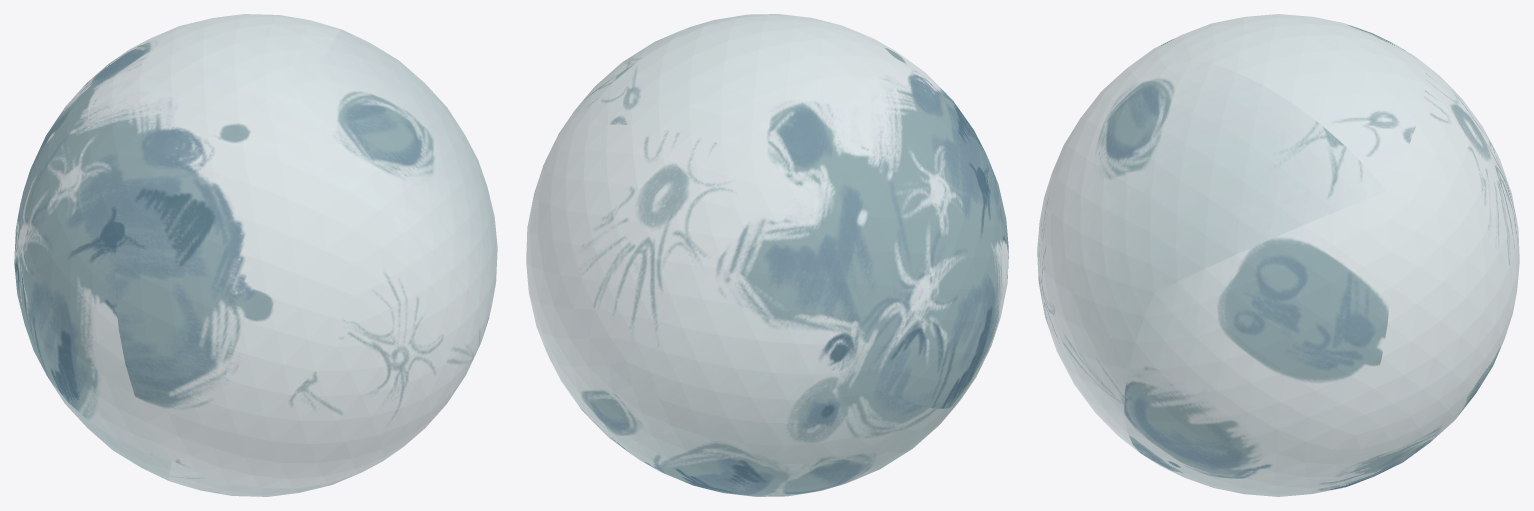
The model's file is moon.glb.
The picture shows the model from 3 angles, left to right: view 1: azimuth 30°, elevation 25°; view 2: azimuth 150°, elevation 25°; view 3: azimuth 270°, elevation 25°; orthographic projection.
Parts seen in each view (by area): view 1: Icosphere; view 2: Icosphere; view 3: Icosphere.
Boxes of the visible parts, x1,y1,x2,y2 form: Icosphere: (14,14,497,496); Icosphere: (526,14,1008,496); Icosphere: (1037,14,1519,496).
Size of the model in its own units: 5.33 by 5.34 by 5.34.
1 material, 1 textured.
